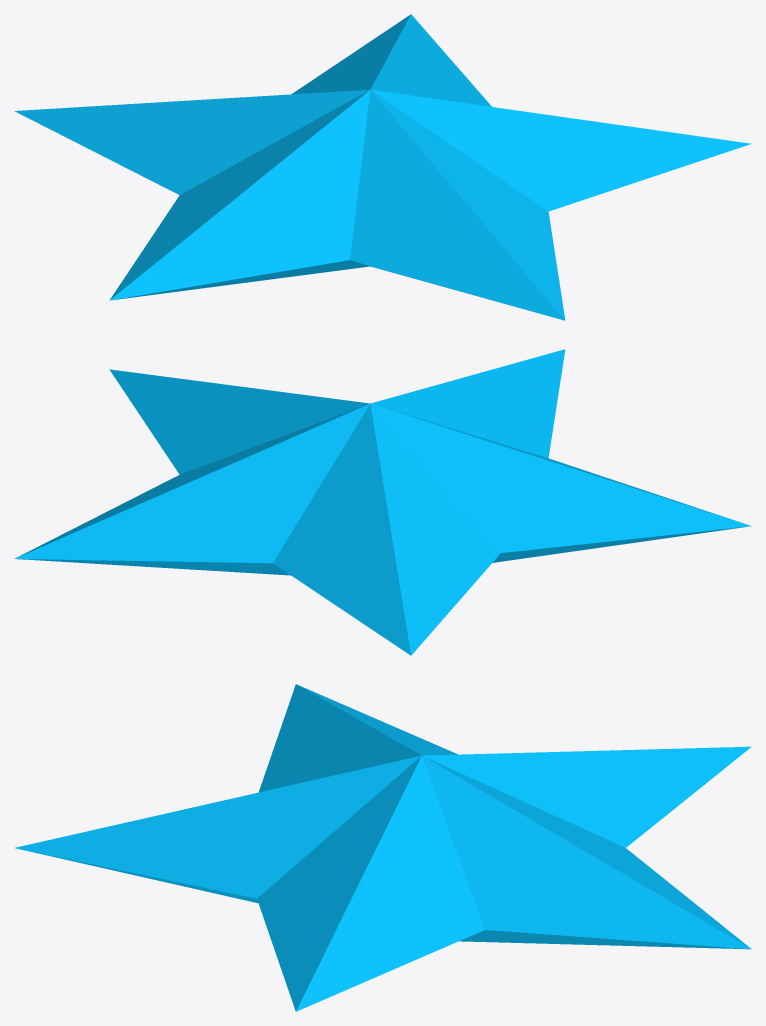
File: star_deepskyblue.glb
3 renders of one model, top to bottom at view 1: azimuth 30°, elevation 25°; view 2: azimuth 150°, elevation 25°; view 3: azimuth 270°, elevation 25°, orthographic. The views are drawn at different scales.
Visible parts, largest first — view 1: 円, 円.001; view 2: 円, 円.001; view 3: 円, 円.001.
Boxes of the visible parts, x1,y1,x2,y2 form: 円: (14, 14, 751, 320); 円.001: (112, 260, 529, 310); 円: (14, 349, 751, 655); 円.001: (17, 526, 749, 575); 円: (15, 684, 751, 1011); 円.001: (19, 849, 749, 949).
Size of the model in its own units: 0.3805 by 0.1 by 0.3618.
